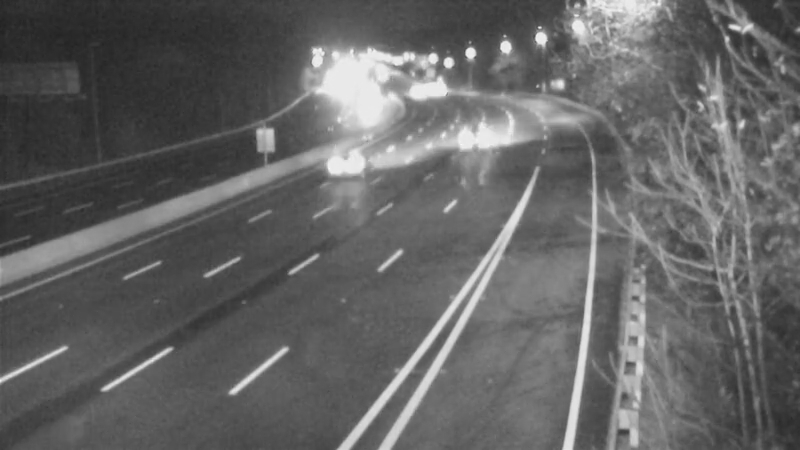vehicle: (306, 125, 386, 205), (396, 65, 446, 115), (405, 68, 455, 118), (453, 109, 503, 159)
